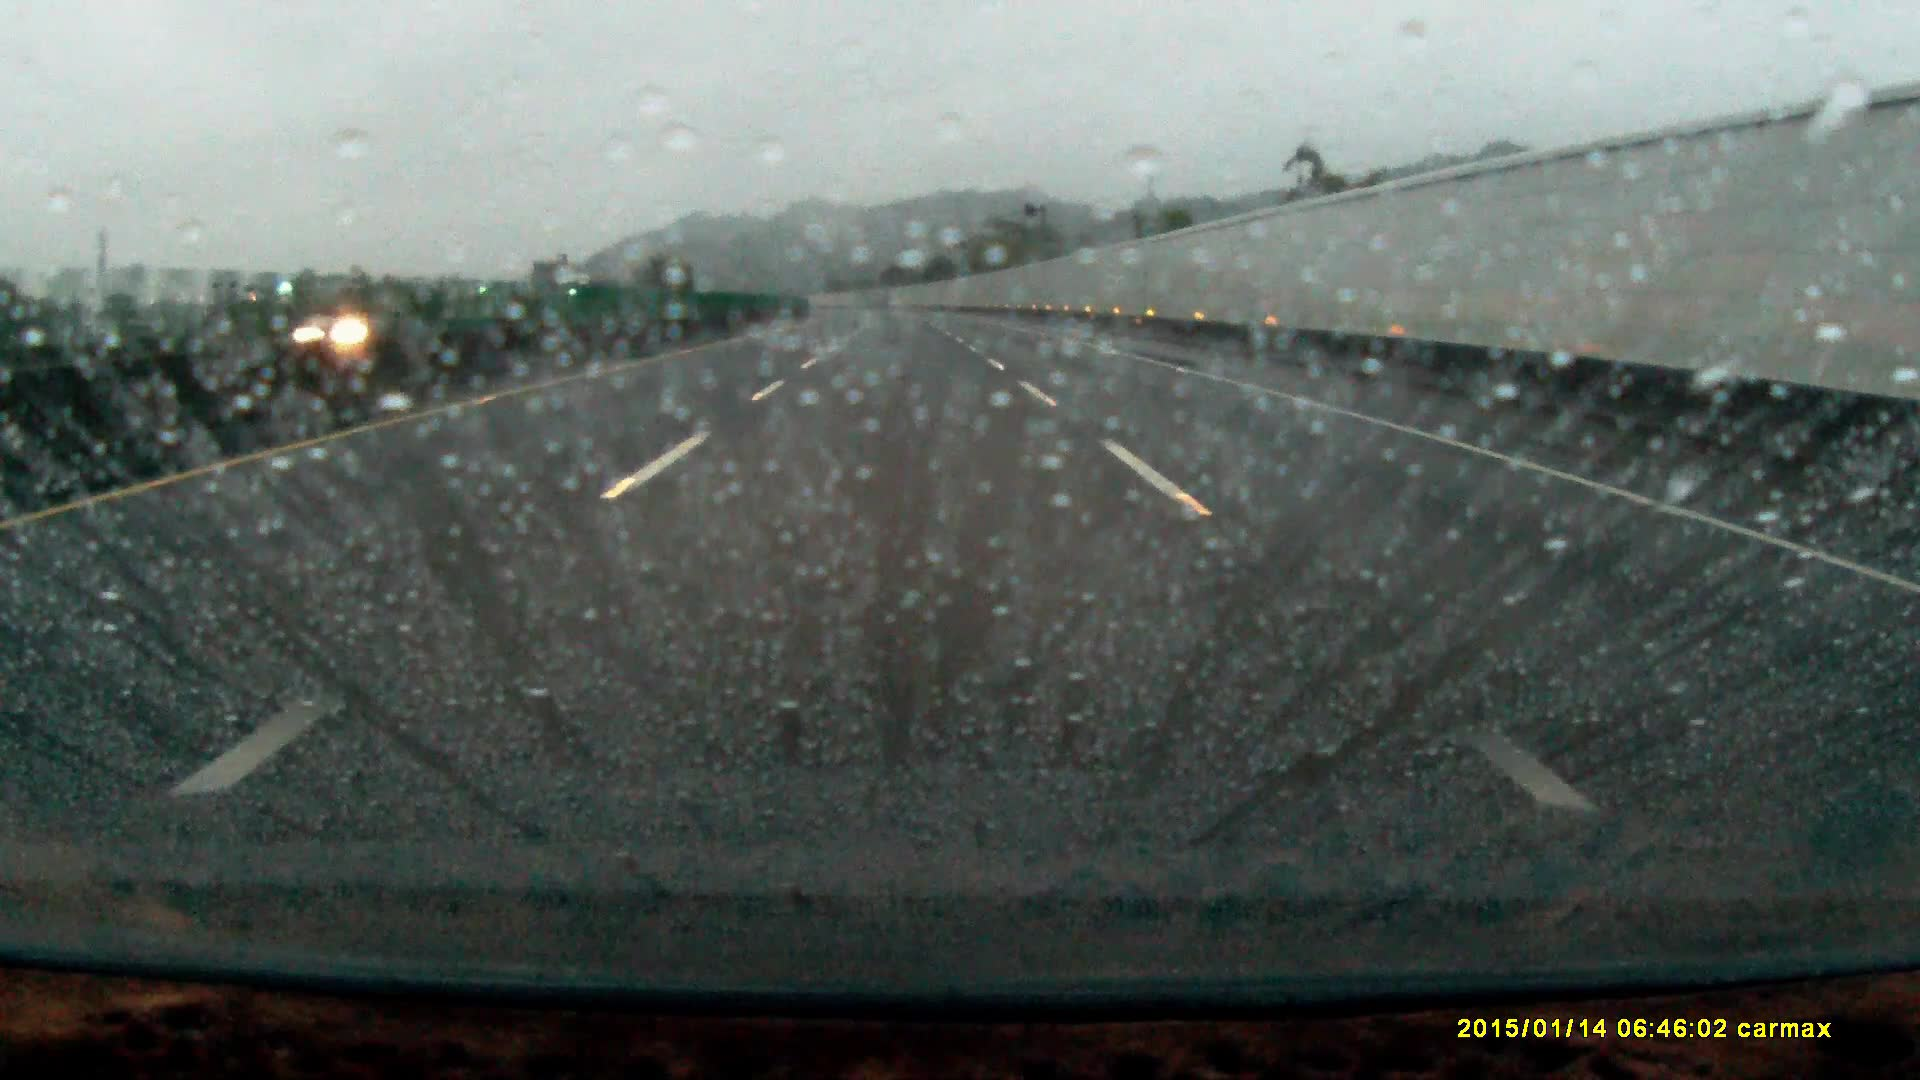vehicle: (286, 298, 392, 344)
